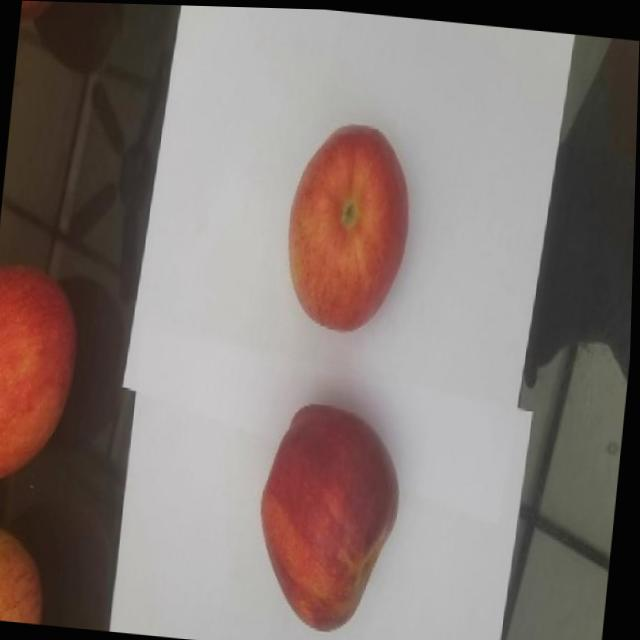Apple: (252, 394, 417, 637), (280, 114, 421, 339), (0, 258, 89, 491), (0, 523, 57, 625)
